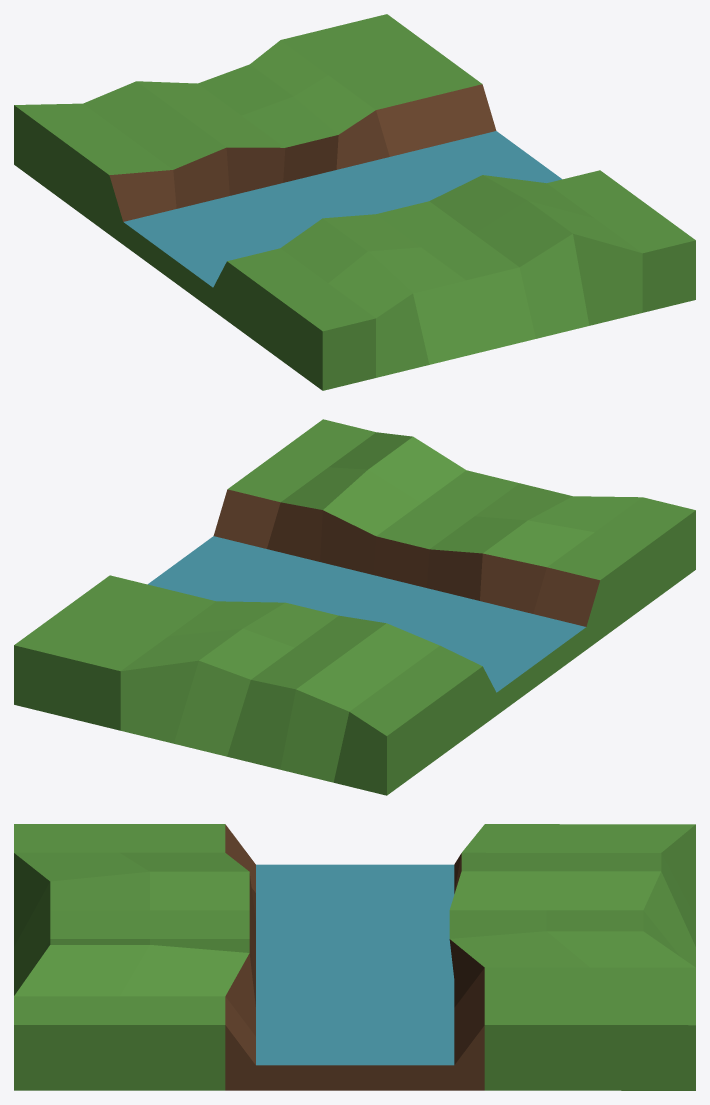
Rendered from terrain.fbx.
3 views of the same model, one above another, from view 1: azimuth 30°, elevation 25°; view 2: azimuth 150°, elevation 25°; view 3: azimuth 270°, elevation 25° (orthographic). The views are drawn at different scales.
Visible parts, largest first — view 1: Cube; view 2: Cube; view 3: Cube.
Part boxes in pixels (x1=…): Cube: x1=14, y1=14, x2=695, y2=390; Cube: x1=14, y1=419, x2=695, y2=795; Cube: x1=14, y1=824, x2=695, y2=1090.
Size of the model in its own units: 1522 by 312 by 2182.
